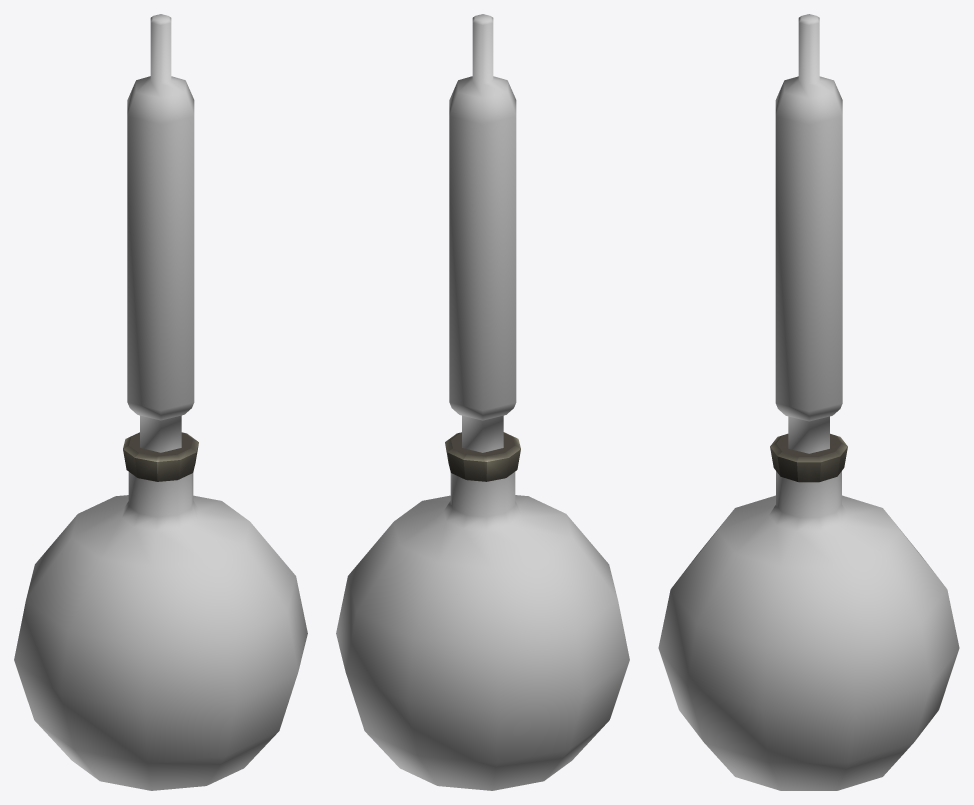
Rendered from CR_sci_Beaker_005.FBX.
3 renders of one model, left to right at view 1: azimuth 30°, elevation 25°; view 2: azimuth 150°, elevation 25°; view 3: azimuth 270°, elevation 25°, orthographic.
Parts seen in each view (by area): view 1: Glass, CR_sci_Beaker_005; view 2: Glass, CR_sci_Beaker_005; view 3: Glass, CR_sci_Beaker_005.
Boxes of the visible parts, left/top/right/bottom form: Glass: left=14, top=14, right=307, bottom=790; CR_sci_Beaker_005: left=123, top=432, right=198, bottom=481; Glass: left=336, top=14, right=629, bottom=790; CR_sci_Beaker_005: left=445, top=432, right=520, bottom=481; Glass: left=658, top=14, right=959, bottom=790; CR_sci_Beaker_005: left=770, top=433, right=847, bottom=482.
Bounding box in the file's own units: 13.38 × 14.06 × 38.83.
